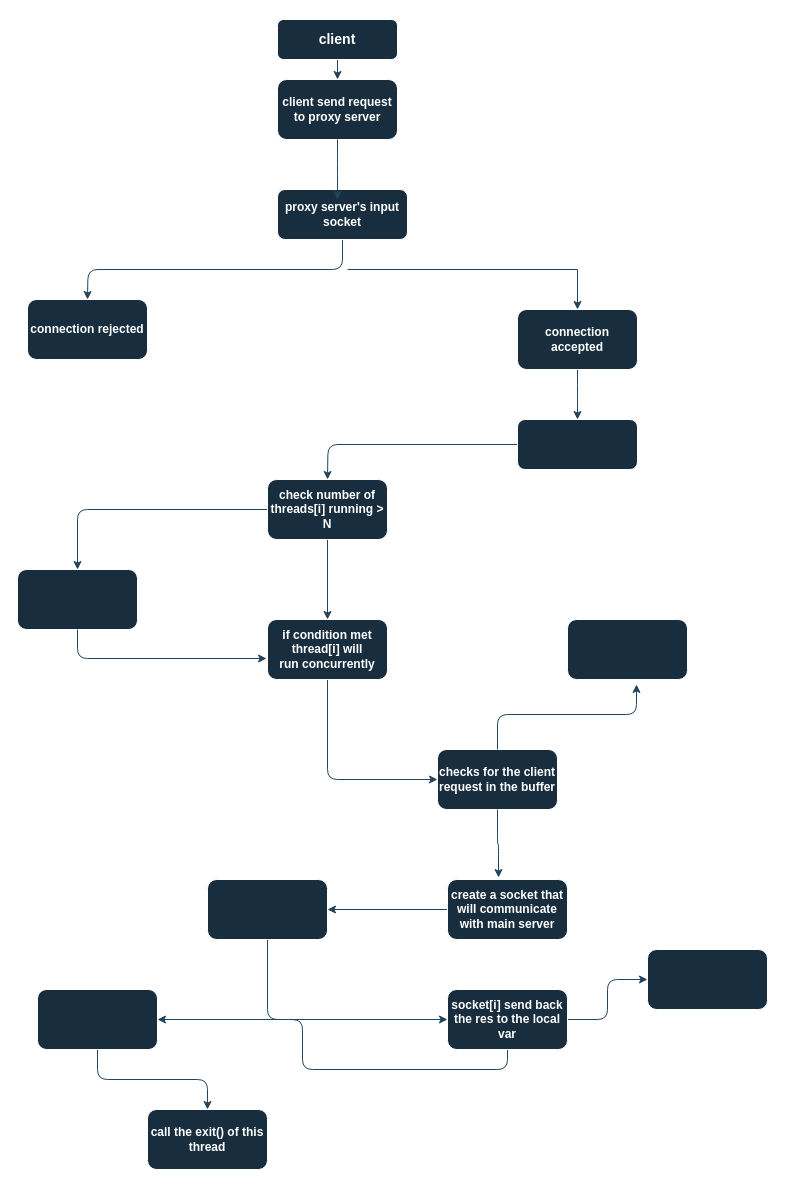
Image size: 785x1187. Some labels were removed from this diagram. Here are the shapes that lost their labels. From the top down, the box of each, then its label:
(516, 418, 638, 470): create a thread[i]
(16, 568, 138, 630): else we call thread_join() on that thread
(566, 618, 688, 680): send the data to the client socket directly and call exit()
(206, 878, 328, 940): main server send the res back
(646, 948, 768, 1010): store in the cache request as a key
(36, 988, 158, 1050): socket[i] will send back to the original client socket
